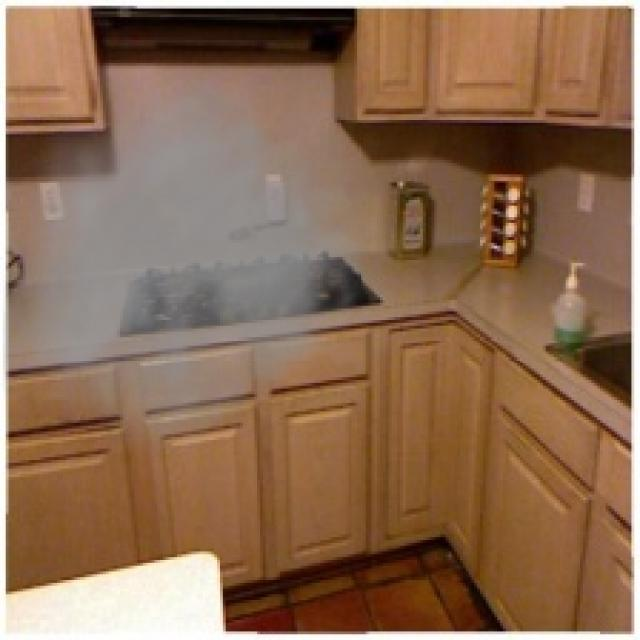Smoke: (2, 60, 408, 469)
